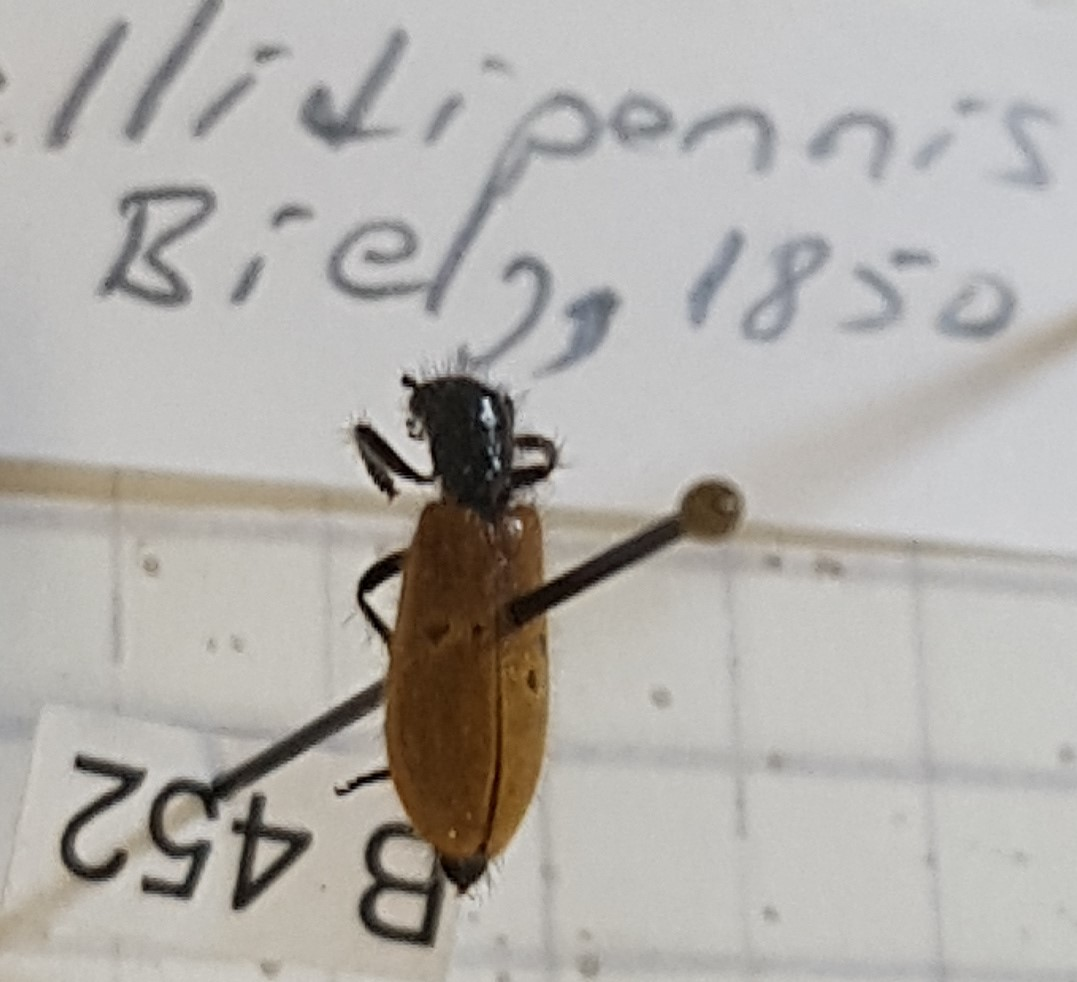tillus_pallidipennis: (336, 331, 575, 905)
